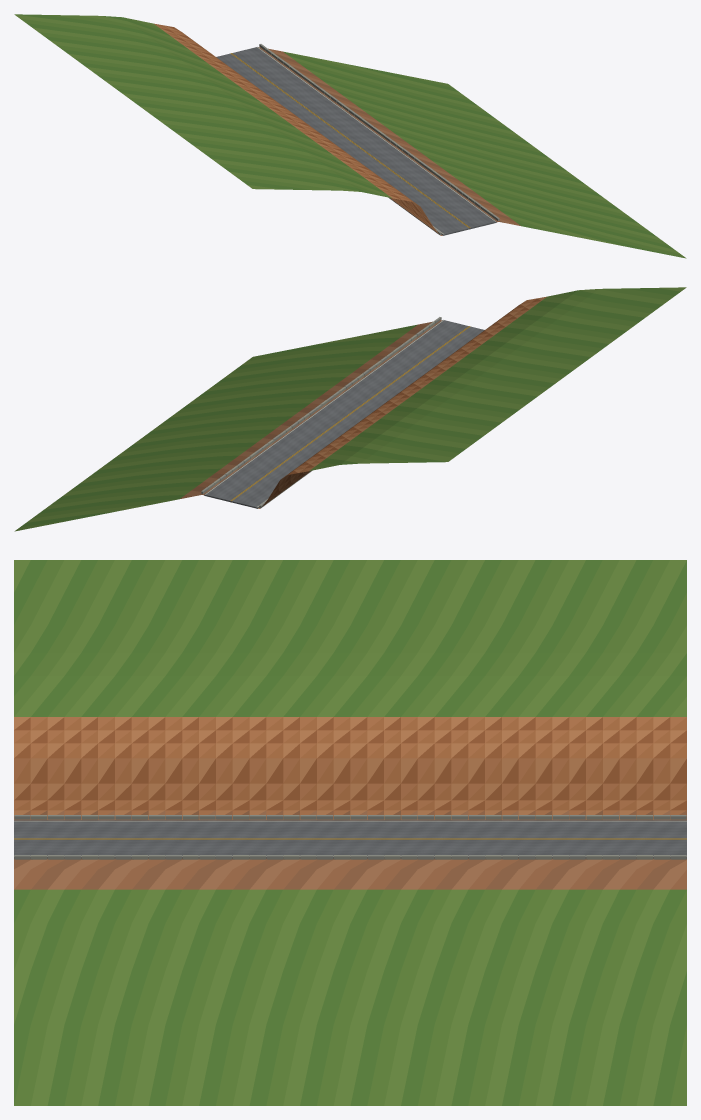
File: roadTile.glb
3 renders of one model, top to bottom at view 1: azimuth 30°, elevation 25°; view 2: azimuth 150°, elevation 25°; view 3: azimuth 270°, elevation 25°, orthographic. The views are drawn at different scales.
Parts seen in each view (by area): view 1: RoadsideTerrain, PaintedRoadSurface, StoneGuardrailsAndMarkings; view 2: RoadsideTerrain, PaintedRoadSurface, StoneGuardrailsAndMarkings; view 3: RoadsideTerrain, PaintedRoadSurface, StoneGuardrailsAndMarkings.
Part boxes in pixels (box(x1,y1,x2,y2)): RoadsideTerrain: box(14, 14, 686, 258); PaintedRoadSurface: box(216, 47, 496, 235); StoneGuardrailsAndMarkings: box(230, 44, 499, 235); RoadsideTerrain: box(14, 287, 686, 531); PaintedRoadSurface: box(204, 320, 484, 508); StoneGuardrailsAndMarkings: box(201, 317, 470, 508); RoadsideTerrain: box(14, 560, 686, 1105); PaintedRoadSurface: box(14, 820, 686, 858); StoneGuardrailsAndMarkings: box(14, 815, 686, 859).
Size of the model in its own units: 84 by 32.44 by 80.
2 materials, 1 textured.
